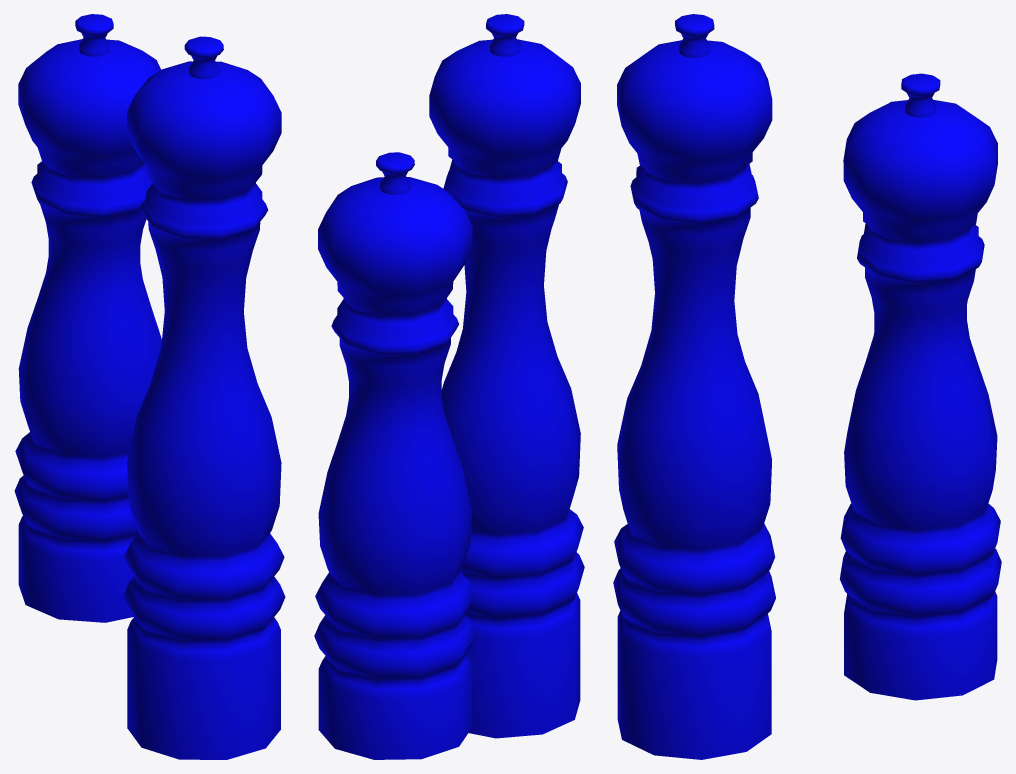
File: salt.fbx
3 renders of one model, left to right at view 1: azimuth 30°, elevation 25°; view 2: azimuth 150°, elevation 25°; view 3: azimuth 270°, elevation 25°, orthographic. The views are drawn at different scales.
Visible parts, largest first — view 1: perechnica, salt; view 2: salt, perechnica; view 3: perechnica, salt.
Boxes of the visible parts, x1,y1,x2,y2 form: perechnica: (123, 36, 285, 759); salt: (14, 14, 161, 622); salt: (314, 152, 476, 759); perechnica: (429, 14, 584, 738); perechnica: (613, 14, 775, 759); salt: (840, 73, 1001, 700).
Bounding box in the file's own units: 3.91 × 18.23 × 9.1.
